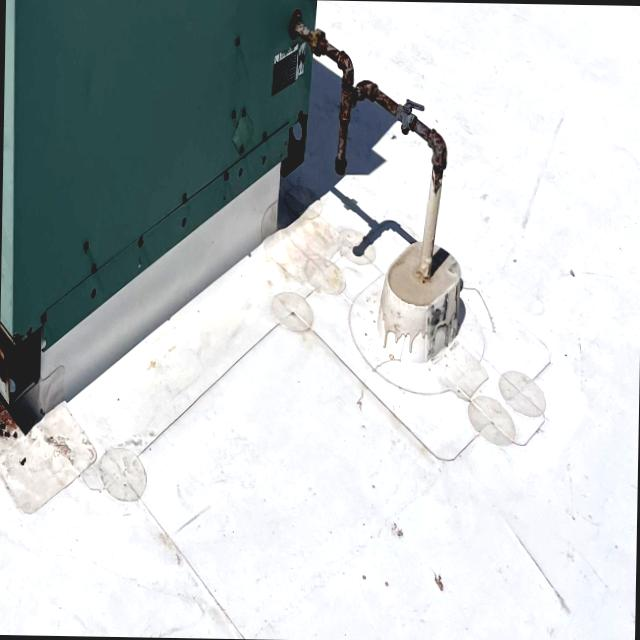RTU: (0, 0, 337, 410)
